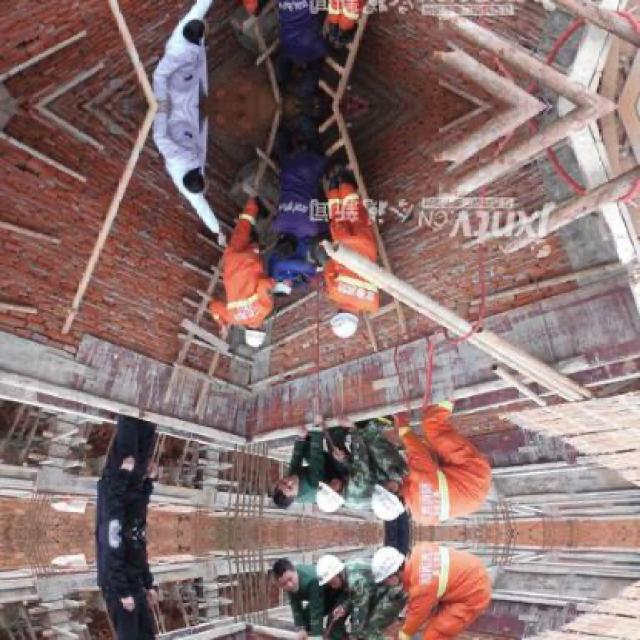con casco: (304, 262, 382, 352), (190, 289, 278, 362), (358, 461, 420, 530), (305, 464, 363, 518)
sin casco: (228, 458, 303, 522), (273, 217, 343, 267), (163, 147, 228, 198)
